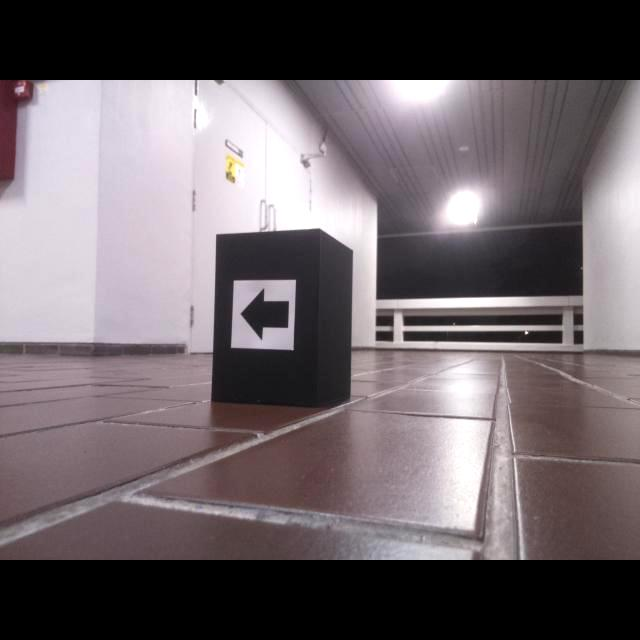LEFT: (239, 286, 289, 342)
